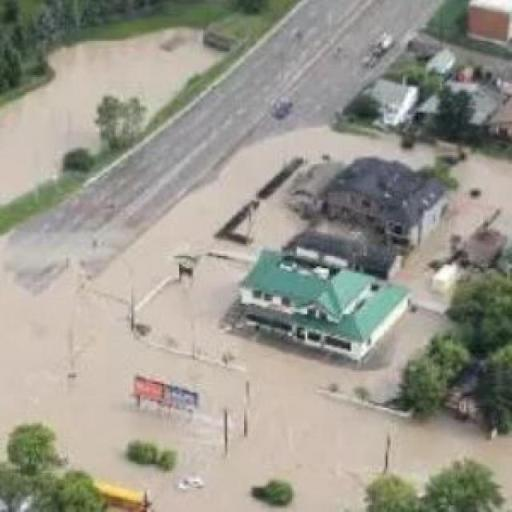flood: (0, 127, 512, 512), (0, 28, 216, 204), (407, 154, 512, 296), (249, 183, 307, 250)
house: (236, 242, 406, 364), (338, 156, 450, 248), (465, 0, 511, 52)
